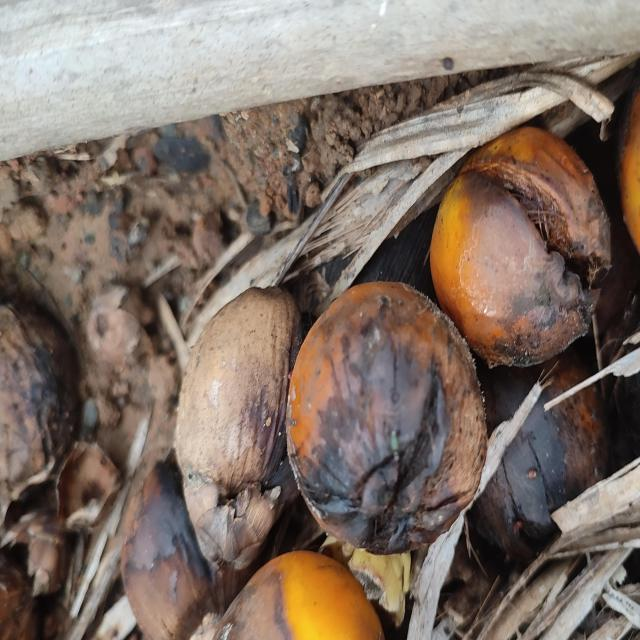damaged: (286, 282, 487, 554), (430, 126, 611, 367), (175, 287, 300, 569)
